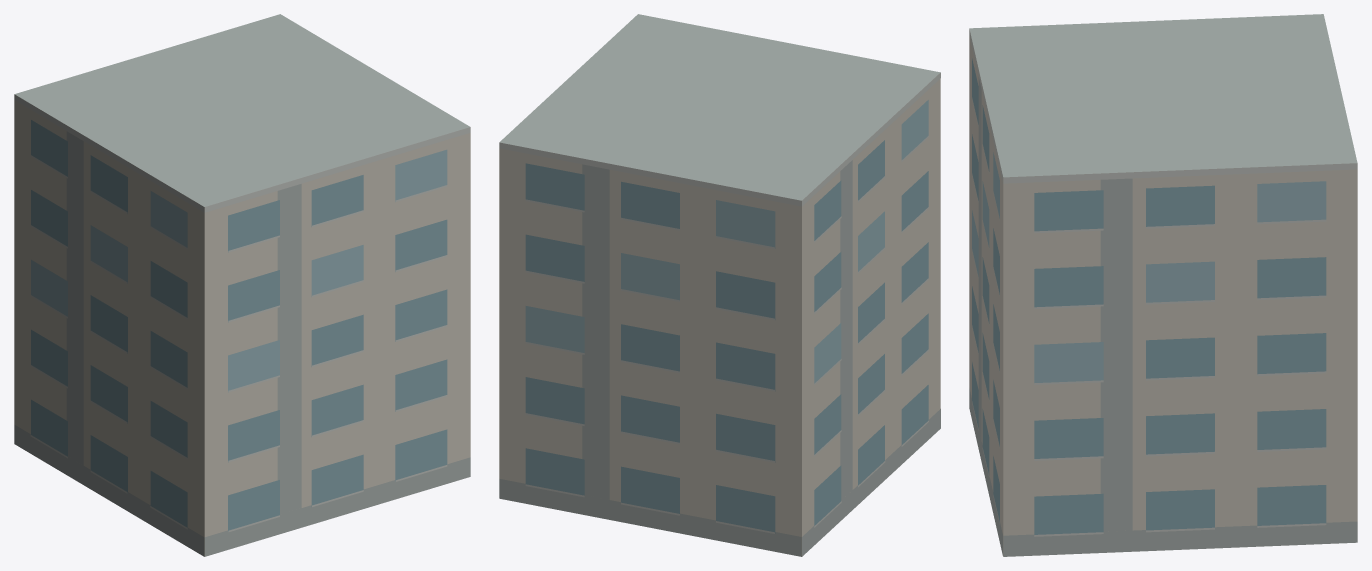
File: survey-upis-32610580.glb
3 views of the same model, side by side, from view 1: azimuth 30°, elevation 25°; view 2: azimuth 150°, elevation 25°; view 3: azimuth 270°, elevation 25° (orthographic). The views are drawn at different scales.
Visible parts, largest first — view 1: survey-upis-32610580.tmp; view 2: survey-upis-32610580.tmp; view 3: survey-upis-32610580.tmp.
Part boxes in pixels (x1,y1,x2,y2): survey-upis-32610580.tmp: [14, 14, 470, 556]; survey-upis-32610580.tmp: [499, 14, 940, 556]; survey-upis-32610580.tmp: [969, 14, 1357, 556].
Size of the model in its own units: 13.54 by 14.65 by 13.59.
